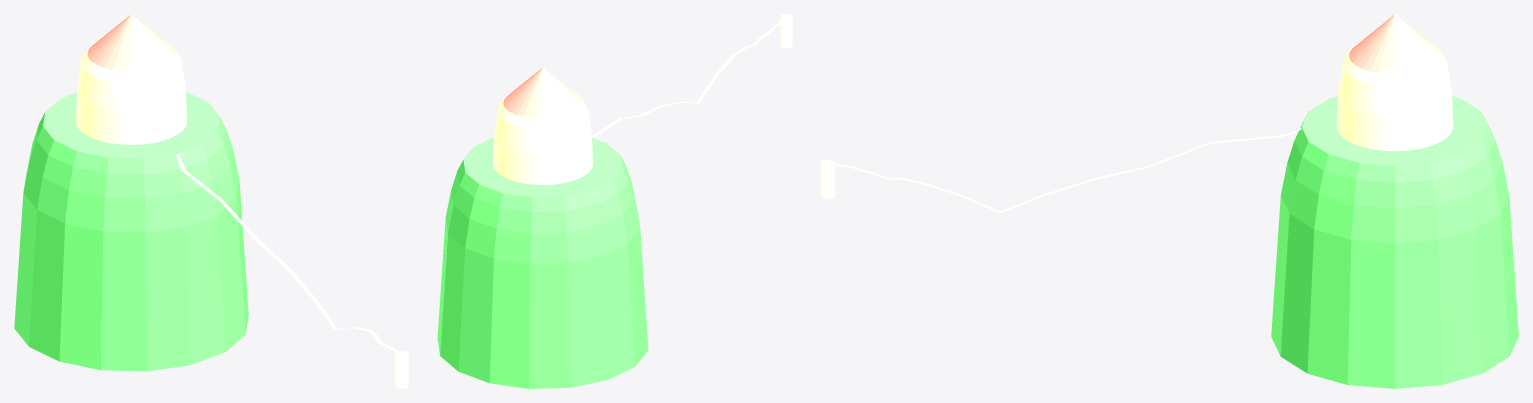
File: castle_low_tide.gltf
3 renders of one model, left to right at view 1: azimuth 30°, elevation 25°; view 2: azimuth 150°, elevation 25°; view 3: azimuth 270°, elevation 25°, orthographic. The views are drawn at different scales.
Parts seen in each view (by area): view 1: land, castle, roof, stairs, start; view 2: land, castle, roof, stairs, start; view 3: land, castle, roof, stairs.
Part boxes in pixels (x1,y1,x2,y2): land: (14,92,248,371); castle: (76,40,186,144); roof: (87,14,175,71); stairs: (176,153,397,352); start: (395,351,408,388); land: (437,137,648,388); castle: (493,91,592,184); roof: (503,67,582,118); stairs: (592,18,785,137); start: (780,14,792,47); land: (1271,96,1518,388); castle: (1336,41,1453,151); roof: (1349,14,1440,74); stairs: (835,128,1301,213).
Bounding box in the file's own units: 106 × 152 × 299.
